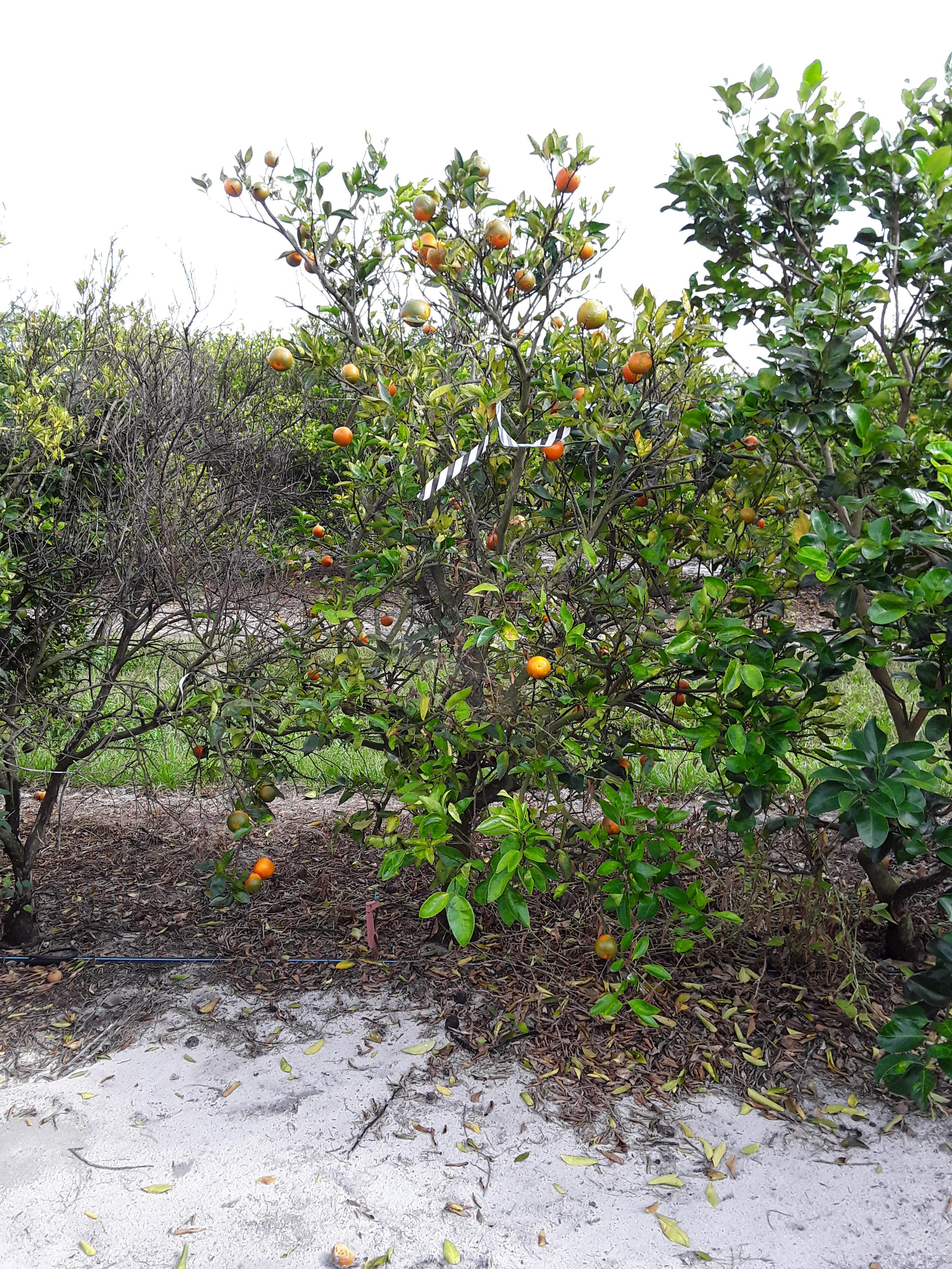fruit_on_ground: (575, 297, 610, 331), (482, 217, 514, 250), (552, 166, 584, 195), (426, 242, 456, 272), (401, 296, 432, 324), (627, 349, 657, 377), (415, 241, 445, 269), (410, 193, 438, 222), (267, 344, 296, 372), (415, 229, 446, 255), (525, 654, 554, 681), (464, 154, 493, 180), (512, 266, 539, 293), (539, 436, 567, 461), (568, 381, 595, 406), (226, 808, 253, 833), (330, 423, 356, 447), (340, 360, 364, 385), (294, 215, 318, 239), (375, 376, 399, 399), (483, 529, 506, 553), (575, 238, 598, 262), (220, 175, 244, 198), (242, 871, 265, 895), (253, 855, 276, 879), (567, 700, 590, 722), (257, 781, 280, 803), (619, 361, 640, 385), (249, 182, 273, 203), (508, 322, 531, 343), (546, 310, 567, 333), (739, 432, 762, 453), (630, 489, 652, 510), (507, 512, 530, 532), (303, 255, 324, 276), (283, 248, 304, 269), (188, 740, 210, 760), (737, 505, 759, 525), (260, 147, 282, 167), (615, 753, 635, 773), (673, 677, 692, 697), (635, 749, 655, 767), (670, 689, 688, 708), (502, 285, 521, 303), (303, 666, 322, 683), (301, 248, 320, 264), (318, 552, 335, 569), (369, 244, 386, 261), (420, 321, 438, 337), (378, 611, 395, 627), (311, 523, 327, 538), (354, 631, 369, 645), (775, 502, 788, 516), (755, 516, 768, 530)
fruit_on_tree: (592, 931, 622, 962), (329, 1240, 357, 1267), (597, 813, 623, 837), (442, 1012, 461, 1031), (452, 988, 472, 1006), (45, 966, 65, 984), (32, 788, 47, 802)
